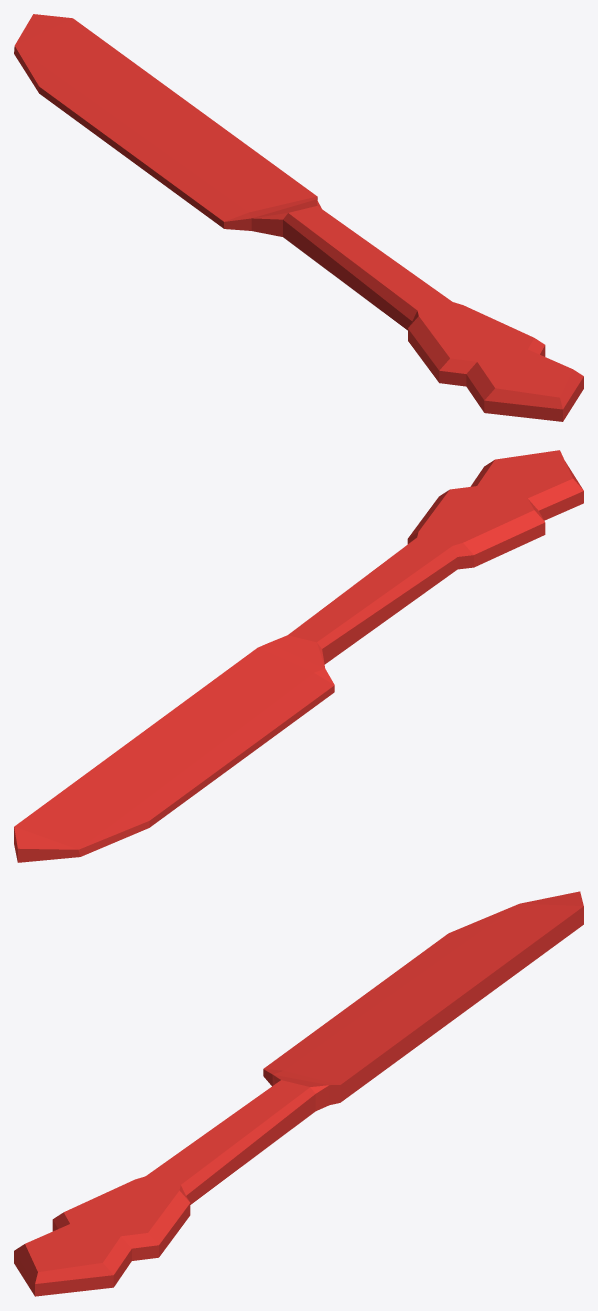
File: SM_Cutlery_Knife_Christmas.fbx
3 views of the same model, one above another, from view 1: azimuth 30°, elevation 25°; view 2: azimuth 150°, elevation 25°; view 3: azimuth 330°, elevation 25° (orthographic).
Parts seen in each view (by area): view 1: cutlery-knife-christmas; view 2: cutlery-knife-christmas; view 3: cutlery-knife-christmas.
Part boxes in pixels (x1,y1,x2,y2): cutlery-knife-christmas: [14, 14, 583, 421]; cutlery-knife-christmas: [14, 450, 583, 862]; cutlery-knife-christmas: [14, 891, 583, 1296].
Bounding box in the file's own units: 0.035 × 0.00707 × 0.2999.
